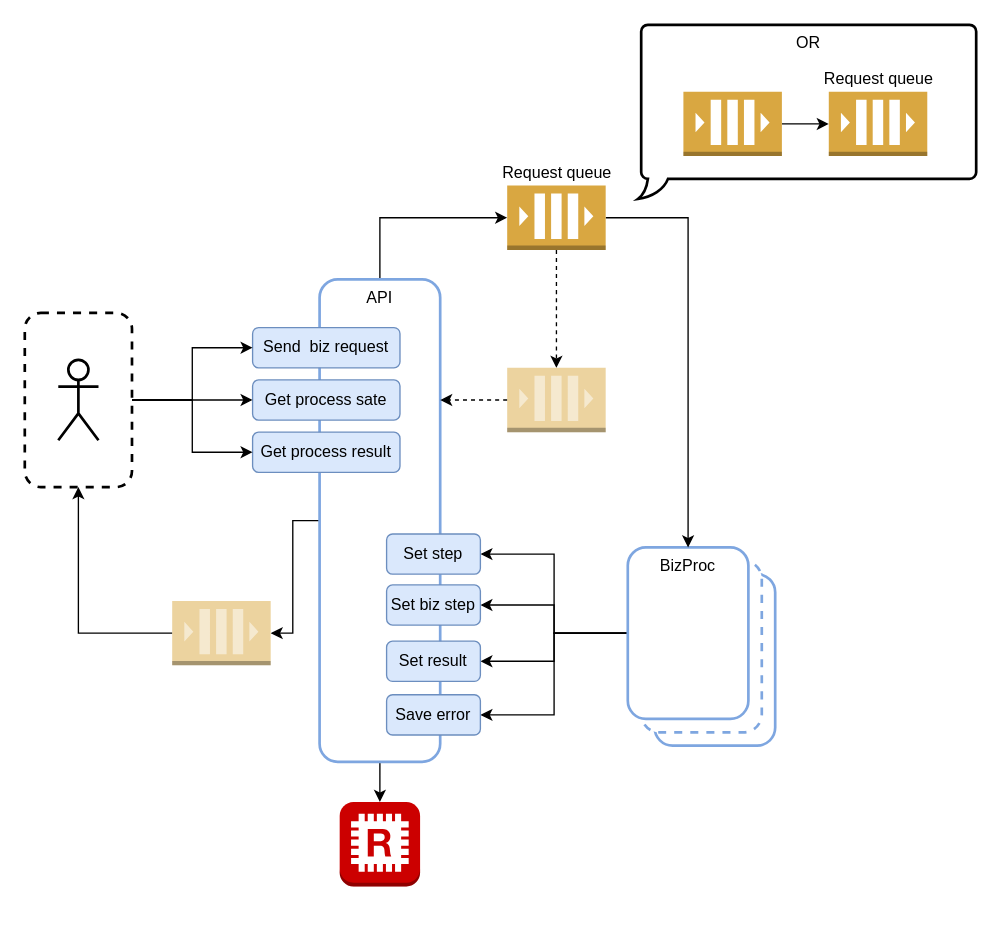
Some shapes in this 1000 by 937 pixel diagram are drawn without their labels. Here are the shapes that lost their labels. From the top down, the centre of each, then its label:
At (x=732, y=123): "Exchange".
At (x=77, y=399): "Client".
At (x=555, y=399): "Dead letter (optional)".
At (x=220, y=632): "Callback (optional)".
At (x=379, y=843): "Redis".
